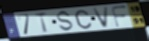7: (17, 13, 31, 35)
C: (74, 9, 93, 30)
F: (110, 5, 129, 29)
S: (56, 9, 75, 32)
T: (34, 12, 50, 34)
V: (92, 6, 110, 30)
